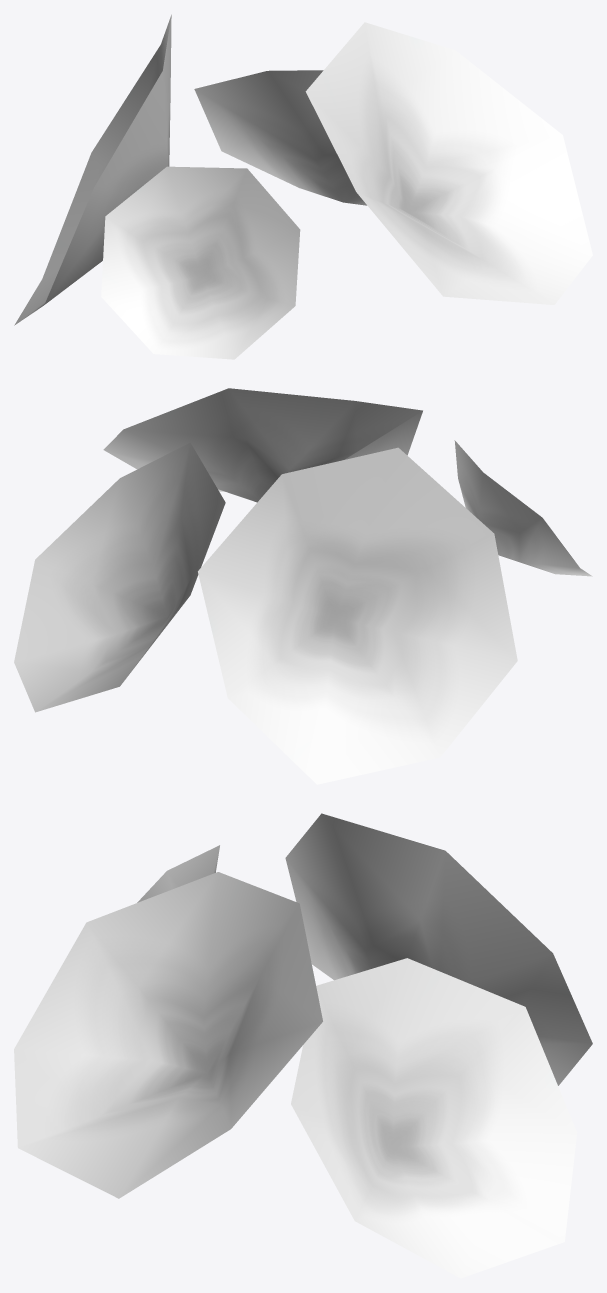
Rendered from Flower_02.fbx.
The picture shows the model from 3 angles, top to bottom: view 1: azimuth 30°, elevation 25°; view 2: azimuth 150°, elevation 25°; view 3: azimuth 270°, elevation 25°; orthographic projection. The views are drawn at different scales.
Visible parts, largest first — view 1: Flower_02; view 2: Flower_02; view 3: Flower_02.
Boxes of the visible parts, <box> form: Flower_02: <box>14,14,592,359</box>; Flower_02: <box>14,388,592,784</box>; Flower_02: <box>14,813,592,1278</box>.
Bounding box in the file's own units: 160 × 171 × 94.48.
Materials: 1 (1 with a texture image).
